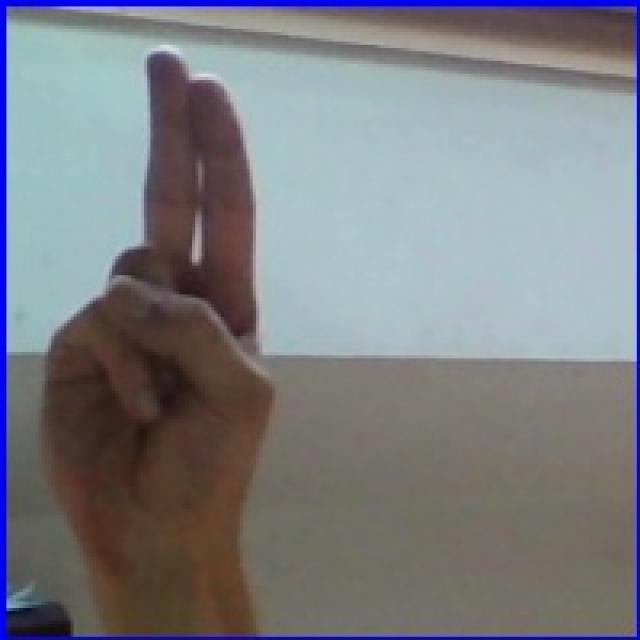Letra-U: (27, 32, 308, 558)
